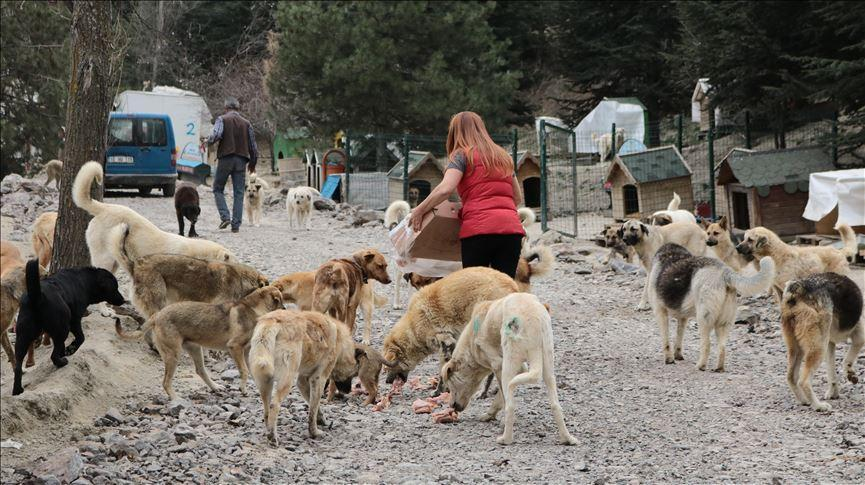normal_dogs: (436, 300, 585, 448), (71, 165, 248, 287), (122, 281, 283, 398), (387, 263, 521, 389), (255, 307, 376, 446), (651, 236, 770, 368), (110, 227, 271, 309), (777, 269, 865, 415), (19, 255, 123, 378), (397, 247, 549, 306), (736, 222, 860, 288), (311, 239, 390, 338), (274, 262, 384, 324), (0, 222, 44, 368), (330, 338, 400, 407), (625, 220, 709, 272), (161, 178, 215, 238), (702, 214, 750, 266), (283, 178, 321, 242), (238, 165, 274, 229), (582, 126, 634, 168), (642, 196, 705, 230), (34, 148, 78, 196), (32, 203, 64, 258), (604, 222, 632, 258), (399, 181, 423, 208)
